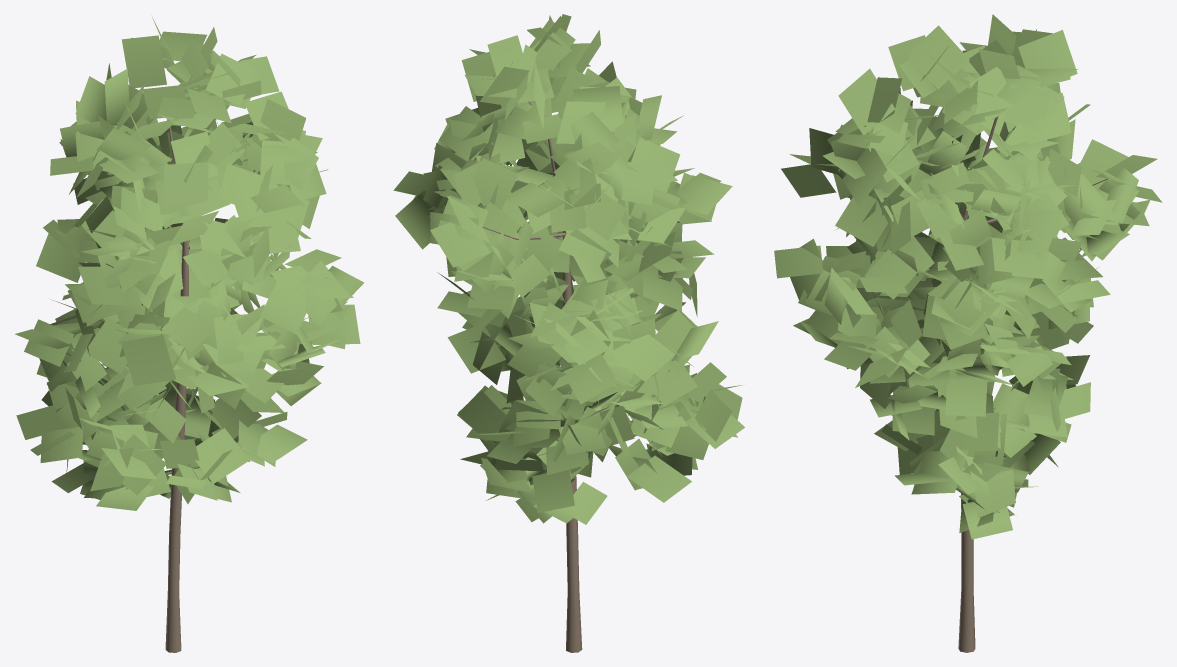
File: Pine_12_young_lod1.glb
The picture shows the model from 3 angles, left to right: view 1: azimuth 30°, elevation 25°; view 2: azimuth 150°, elevation 25°; view 3: azimuth 270°, elevation 25°; orthographic projection. The views are drawn at different scales.
Parts seen in each view (by area): view 1: Pine_12_young_lod1; view 2: Pine_12_young_lod1; view 3: Pine_12_young_lod1.
Part boxes in pixels (box(x1,y1,x2,y2)): Pine_12_young_lod1: box(15, 17, 364, 652); Pine_12_young_lod1: box(393, 14, 744, 652); Pine_12_young_lod1: box(774, 14, 1162, 652).
Size of the model in its own units: 5.36 by 10.23 by 5.65.
